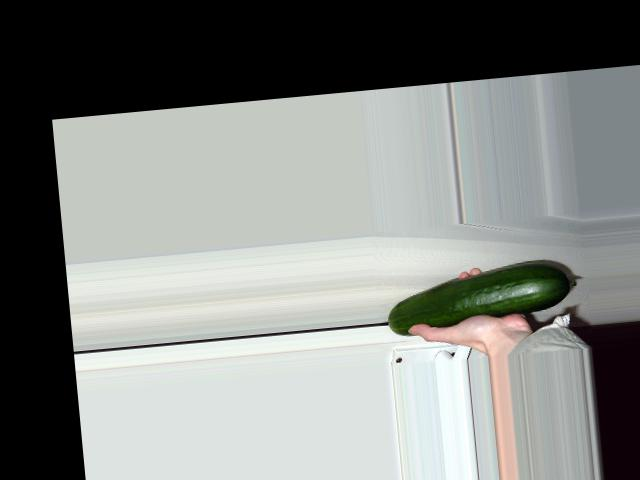cucumber: (383, 256, 579, 337)
